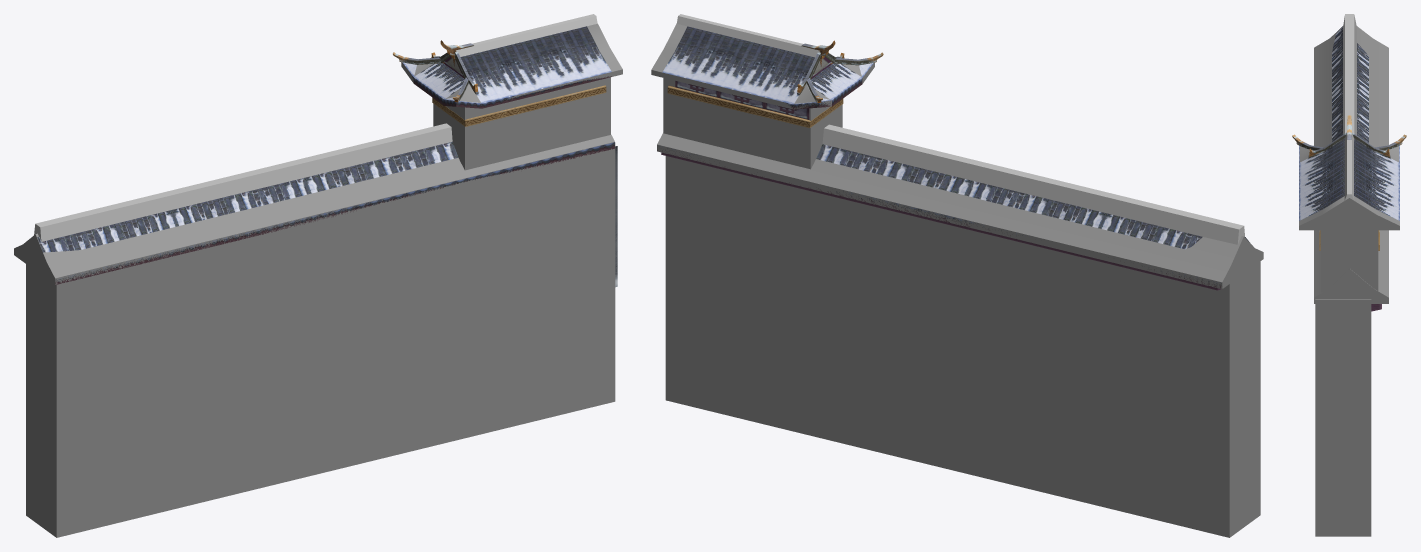
Rendered from Scene_Build_TianShan_DaMen_1.FBX.
The picture shows the model from 3 angles, left to right: view 1: azimuth 30°, elevation 25°; view 2: azimuth 150°, elevation 25°; view 3: azimuth 270°, elevation 25°; orthographic projection. The views are drawn at different scales.
Visible parts, largest first — view 1: Scene_Build_TianShan_DaMen_1_Xzm, Scene_Build_TianShan_DaMen_1a, Scene_Build_TianShan_DaMen_1b; view 2: Scene_Build_TianShan_DaMen_1_Xzm, Scene_Build_TianShan_DaMen_1a, Scene_Build_TianShan_DaMen_1b; view 3: Scene_Build_TianShan_DaMen_1_Xzm, Scene_Build_TianShan_DaMen_1a, Scene_Build_TianShan_DaMen_1b.
Part boxes in pixels (x1,y1,x2,y2): Scene_Build_TianShan_DaMen_1_Xzm: (14,14,622,537); Scene_Build_TianShan_DaMen_1a: (37,26,614,284); Scene_Build_TianShan_DaMen_1b: (393,40,606,126); Scene_Build_TianShan_DaMen_1_Xzm: (651,14,1263,537); Scene_Build_TianShan_DaMen_1a: (657,26,1249,288); Scene_Build_TianShan_DaMen_1b: (661,40,1220,290); Scene_Build_TianShan_DaMen_1_Xzm: (1299,14,1399,536); Scene_Build_TianShan_DaMen_1a: (1299,26,1399,220); Scene_Build_TianShan_DaMen_1b: (1292,115,1406,311).
Size of the model in its own units: 1861 by 1212 by 356.
